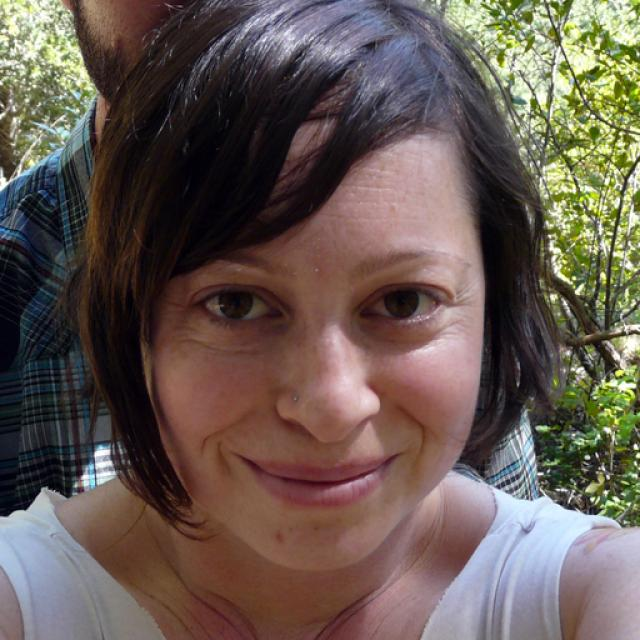Acne: (307, 259, 331, 281), (385, 197, 401, 215)
